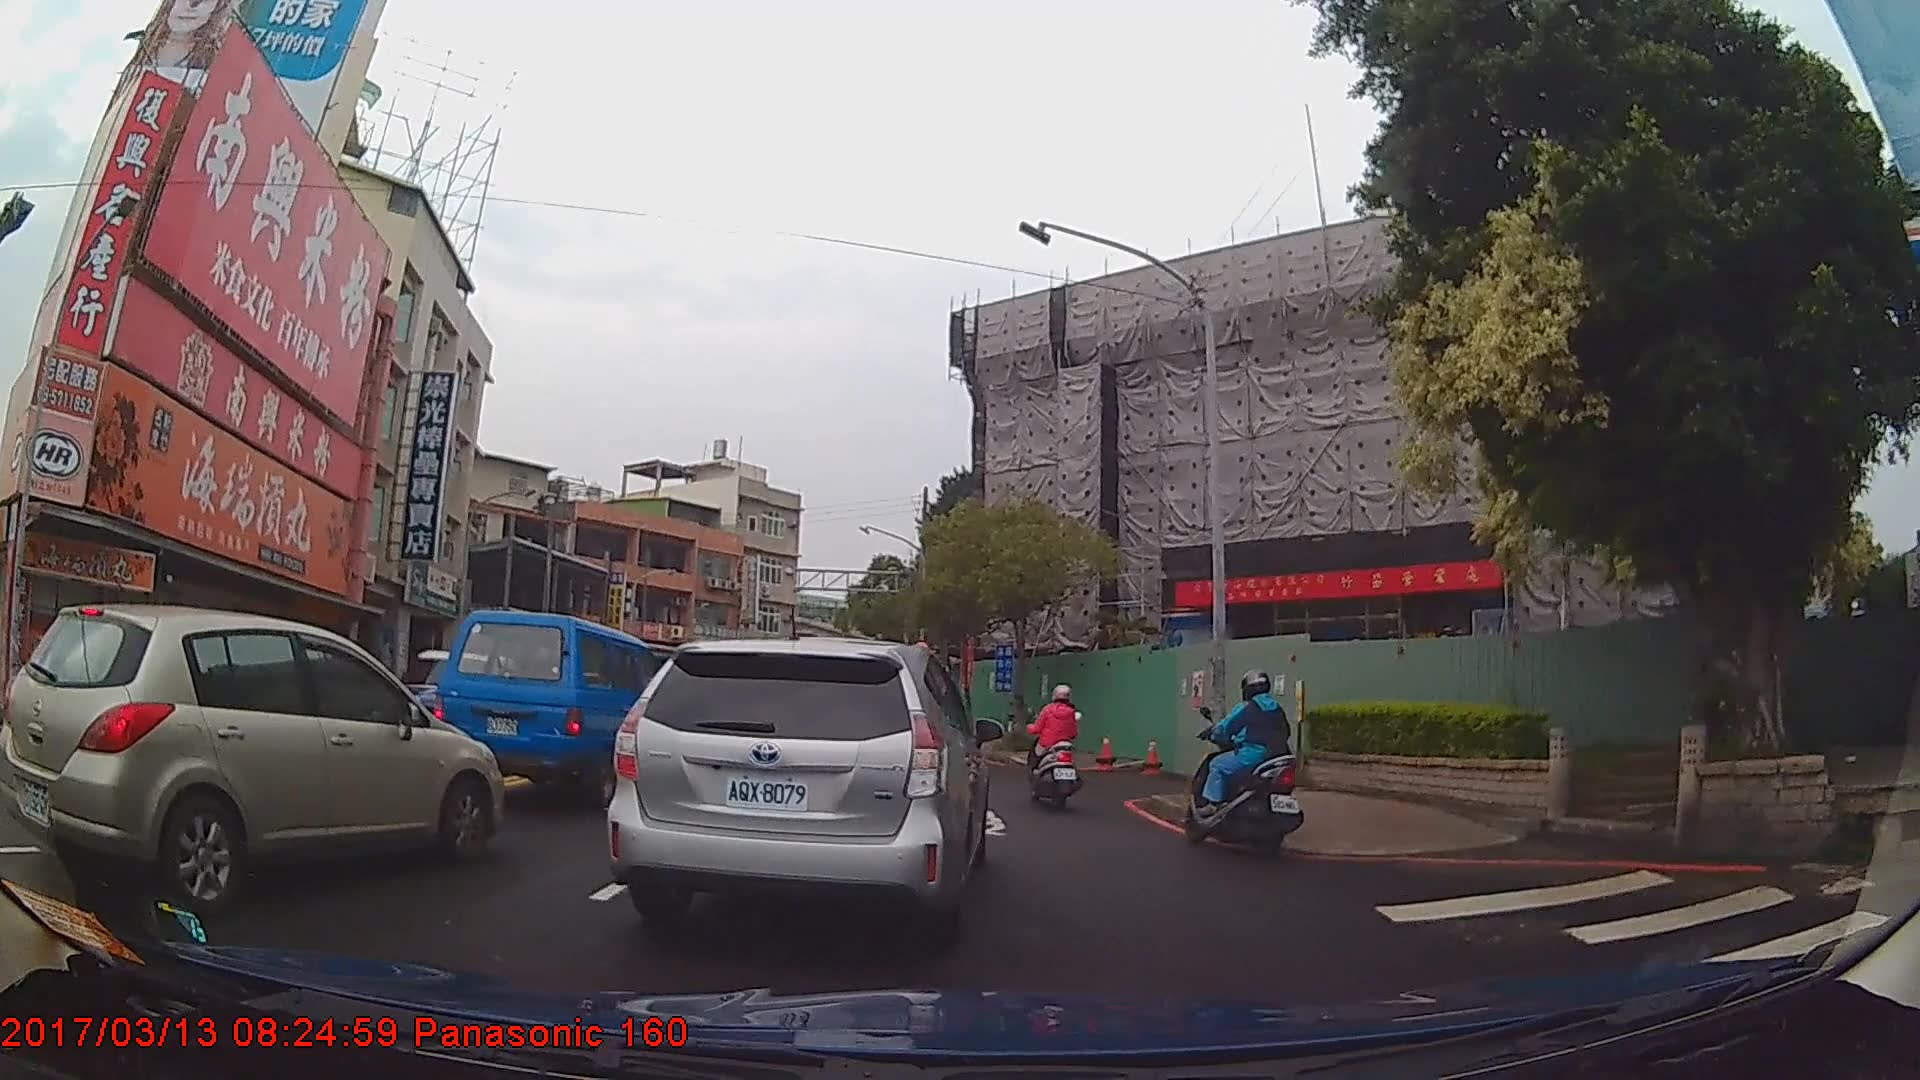rider: (1185, 671, 1305, 853), (1024, 684, 1081, 801)
vehicle: (0, 599, 503, 915), (602, 631, 987, 946), (434, 608, 675, 808)
